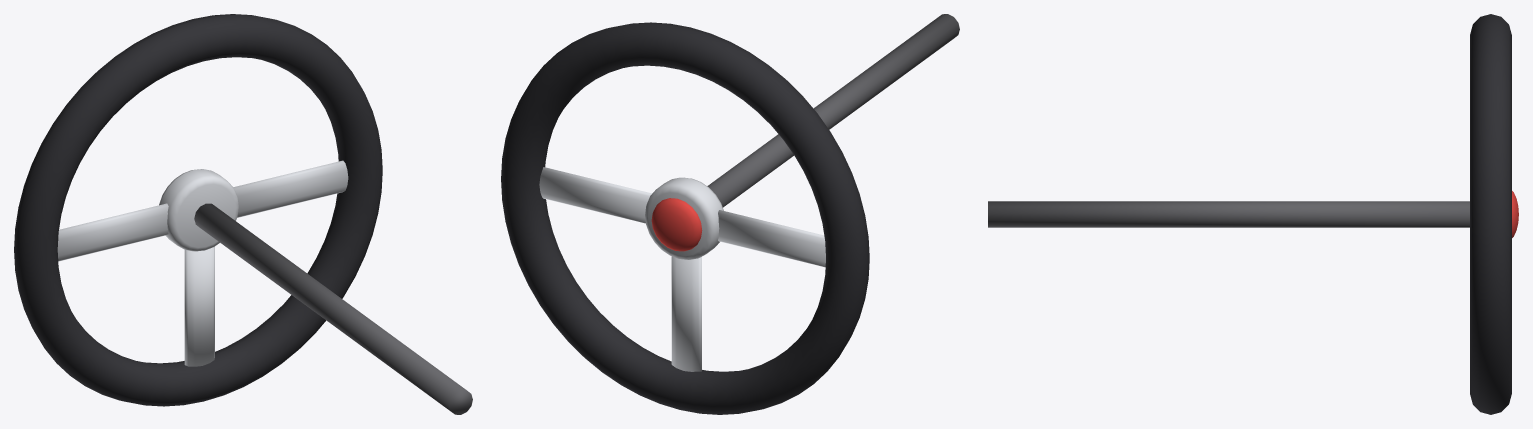
File: volant.glb
3 renders of one model, left to right at view 1: azimuth 30°, elevation 25°; view 2: azimuth 150°, elevation 25°; view 3: azimuth 270°, elevation 25°, orthographic. The views are drawn at different scales.
Visible parts, largest first — view 1: volant, colonne; view 2: volant, colonne; view 3: volant, colonne.
Boxes of the visible parts, x1,y1,x2,y2 form: volant: (14,14,382,406); colonne: (194,203,472,414); volant: (501,22,869,414); colonne: (707,14,959,207); volant: (1470,14,1518,414); colonne: (988,201,1469,227).
Bounding box in the file's own units: 0.614 × 0.614 × 0.8129.
